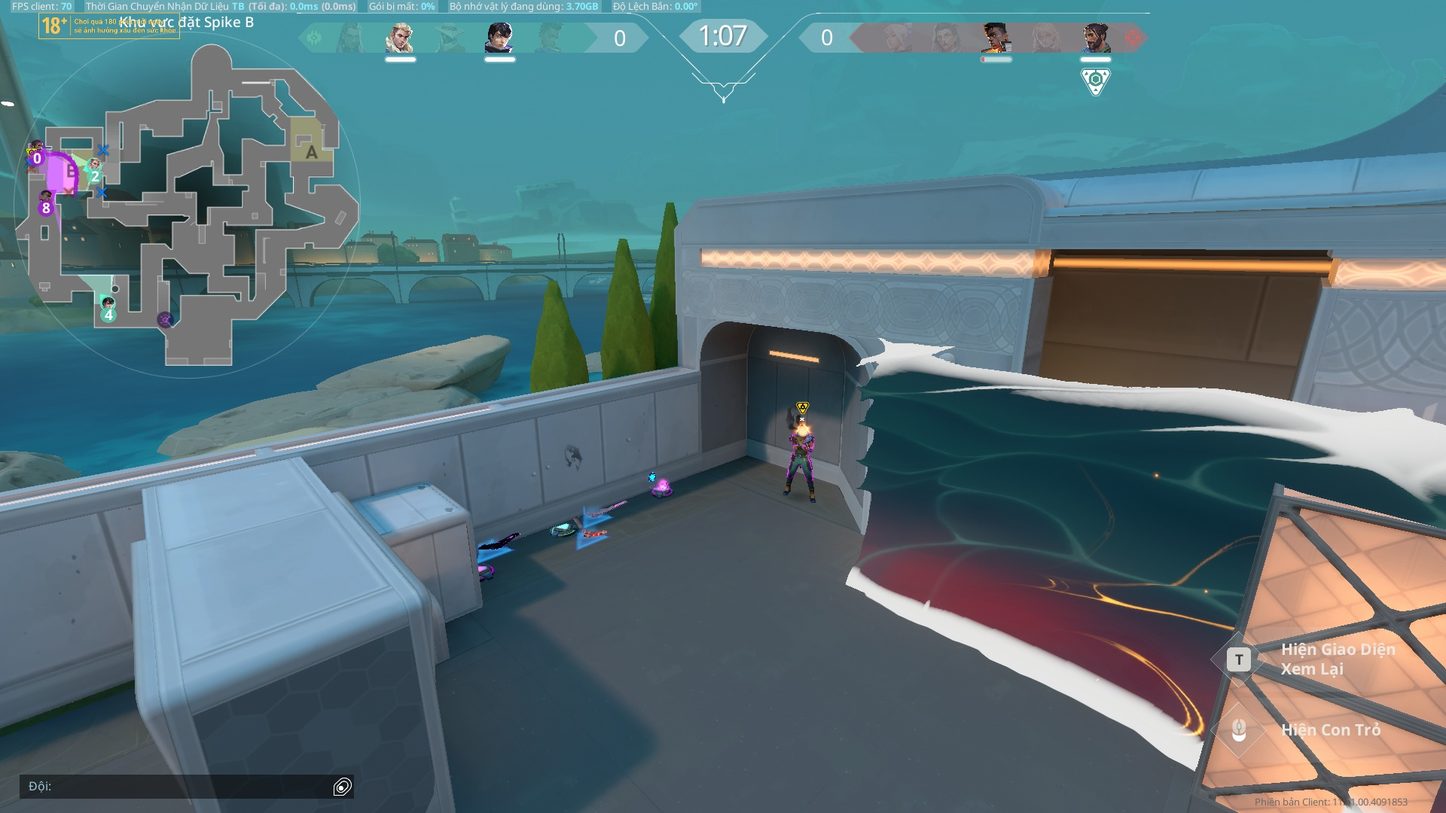body: (789, 433, 814, 457)
head: (795, 422, 810, 437)
